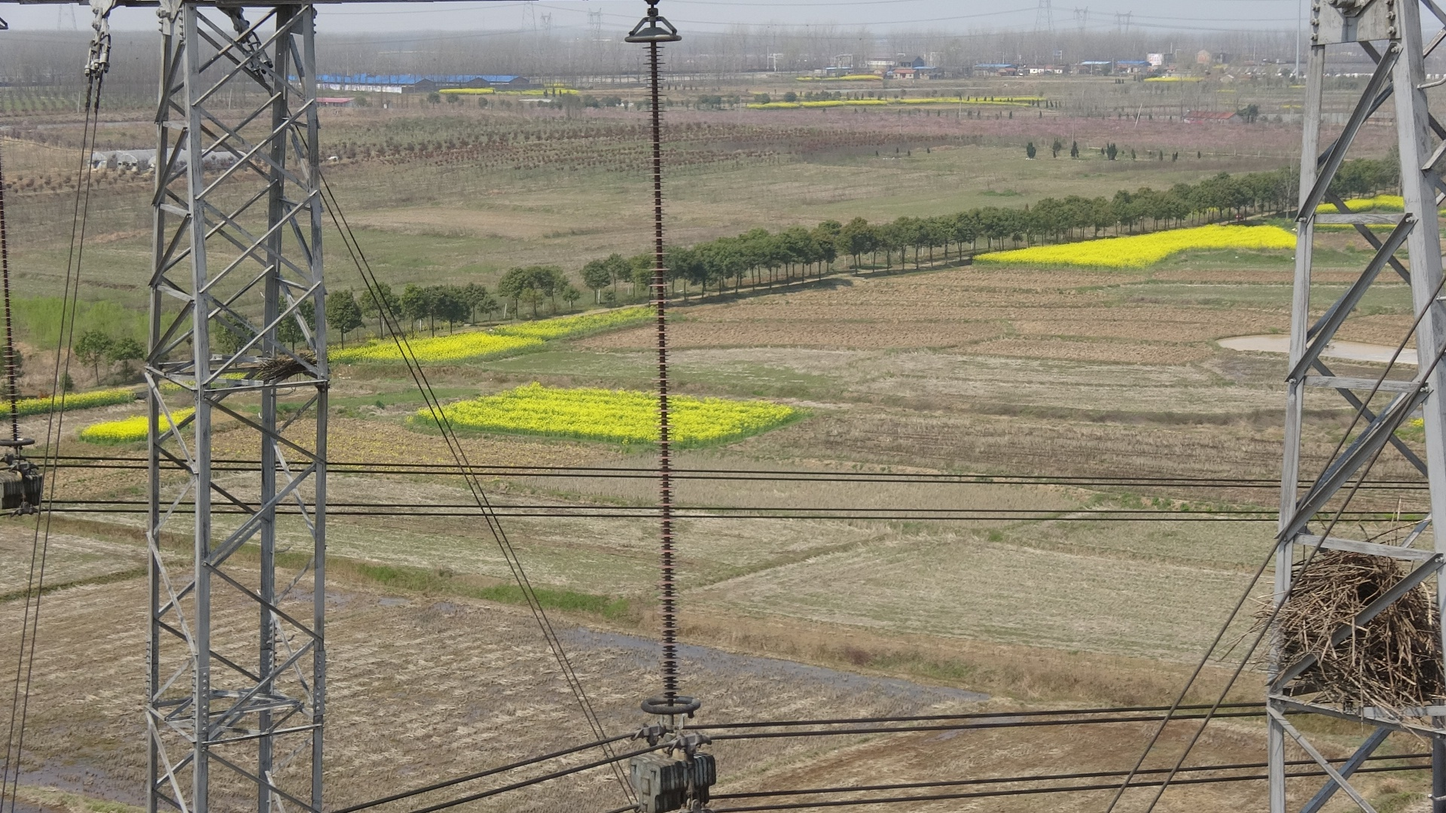insulator: (637, 41, 686, 702), (1, 177, 26, 443)
